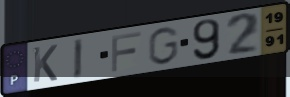2: (225, 11, 261, 58)
9: (191, 17, 221, 61)
F: (109, 29, 143, 73)
G: (147, 26, 181, 67)
I: (71, 37, 85, 82)
K: (31, 43, 59, 84)
